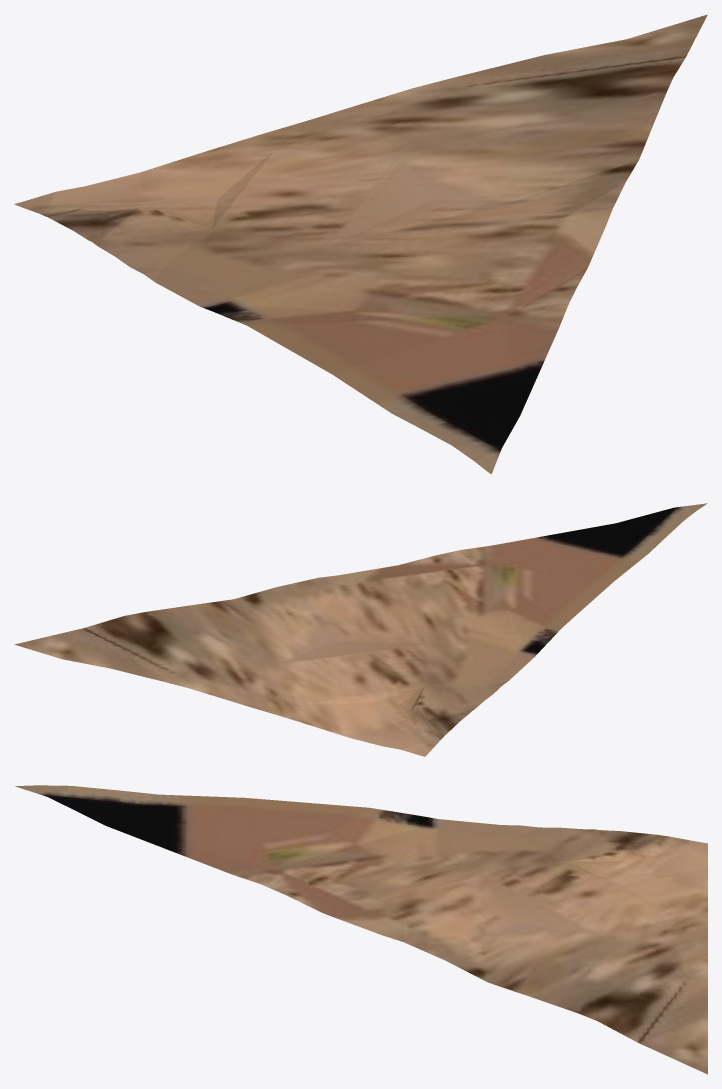
The picture shows the model from 3 angles, top to bottom: view 1: azimuth 30°, elevation 25°; view 2: azimuth 150°, elevation 25°; view 3: azimuth 270°, elevation 25°; orthographic projection. The views are drawn at different scales.
Bounding box in the file's own units: 2.36 × 0.2602 × 2.81.
1 material, 1 textured.
